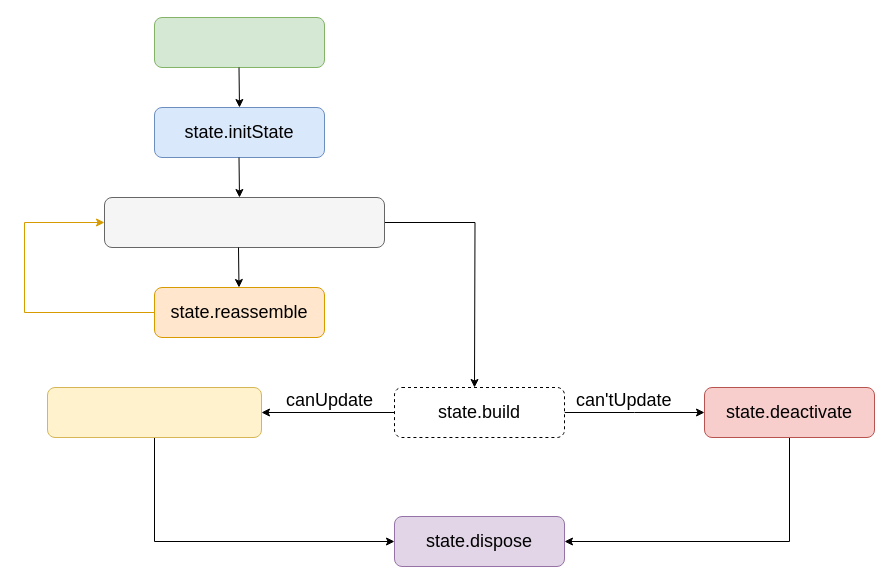
Some shapes in this 892 by 584 pixel diagram are drawn without their labels. The centre of each missing label's shape, as x and y in pixels:
"state.didChangeDependencies" belongs at point (244, 222).
"state.didUpdateWidget" belongs at point (154, 412).
"widget.createState" belongs at point (239, 42).
